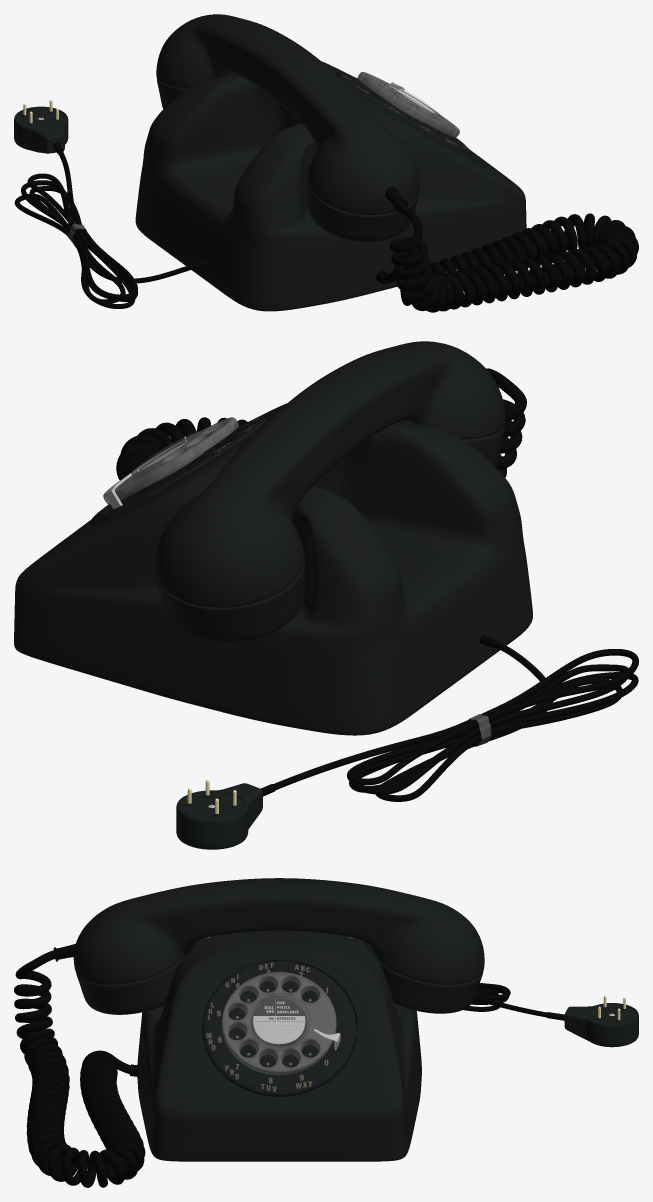
Rendered from vintage_telephone.glb.
3 renders of one model, top to bottom at view 1: azimuth 30°, elevation 25°; view 2: azimuth 150°, elevation 25°; view 3: azimuth 270°, elevation 25°, orthographic. The views are drawn at different scales.
Visible parts, largest first — view 1: polySurface184, pasted__polySurface110, polySurface193, polySurface192, pasted__polySurface111, polySurface186, polySurface190, polySurface194, polySurface189; view 2: polySurface184, pasted__polySurface110, polySurface192, pasted__polySurface109, polySurface193, polySurface190, polySurface186, polySurface194, polySurface189, pasted__polySurface111; view 3: polySurface184, pasted__polySurface110, polySurface193, polySurface194, polySurface186, pasted__polySurface111, pasted__polySurface109, polySurface187, polySurface190, polySurface185, polySurface192, polySurface199 (+1 smaller).
Part boxes in pixels (bbox=[...]): polySurface184: bbox=[135, 61, 526, 311]; pasted__polySurface110: bbox=[156, 14, 420, 215]; polySurface193: bbox=[381, 202, 638, 312]; polySurface192: bbox=[14, 150, 197, 308]; pasted__polySurface111: bbox=[307, 177, 419, 242]; polySurface186: bbox=[357, 72, 459, 137]; polySurface190: bbox=[14, 106, 68, 153]; polySurface194: bbox=[336, 72, 470, 153]; polySurface189: bbox=[16, 108, 65, 127]; polySurface184: bbox=[14, 403, 532, 735]; pasted__polySurface110: bbox=[155, 341, 505, 607]; polySurface192: bbox=[273, 640, 638, 801]; pasted__polySurface109: bbox=[156, 559, 304, 642]; polySurface193: bbox=[116, 368, 526, 480]; polySurface190: bbox=[176, 783, 262, 849]; polySurface186: bbox=[103, 417, 238, 504]; polySurface194: bbox=[89, 417, 266, 526]; polySurface189: bbox=[180, 792, 244, 818]; pasted__polySurface111: bbox=[463, 427, 504, 466]; polySurface184: bbox=[137, 930, 421, 1161]; pasted__polySurface110: bbox=[73, 878, 484, 984]; polySurface193: bbox=[14, 950, 145, 1187]; polySurface194: bbox=[202, 960, 356, 1096]; polySurface186: bbox=[221, 972, 336, 1075]; pasted__polySurface111: bbox=[76, 952, 185, 1014]; pasted__polySurface109: bbox=[373, 952, 483, 1013]; polySurface187: bbox=[248, 993, 309, 1047]; polySurface190: bbox=[564, 1003, 638, 1047]; polySurface185: bbox=[253, 998, 305, 1044]; polySurface192: bbox=[463, 983, 547, 1017]; polySurface199: bbox=[206, 962, 328, 1091].
Bounding box in the file's own units: 19.22 × 7.77 × 22.9.
Materials: 12 (2 with a texture image).
